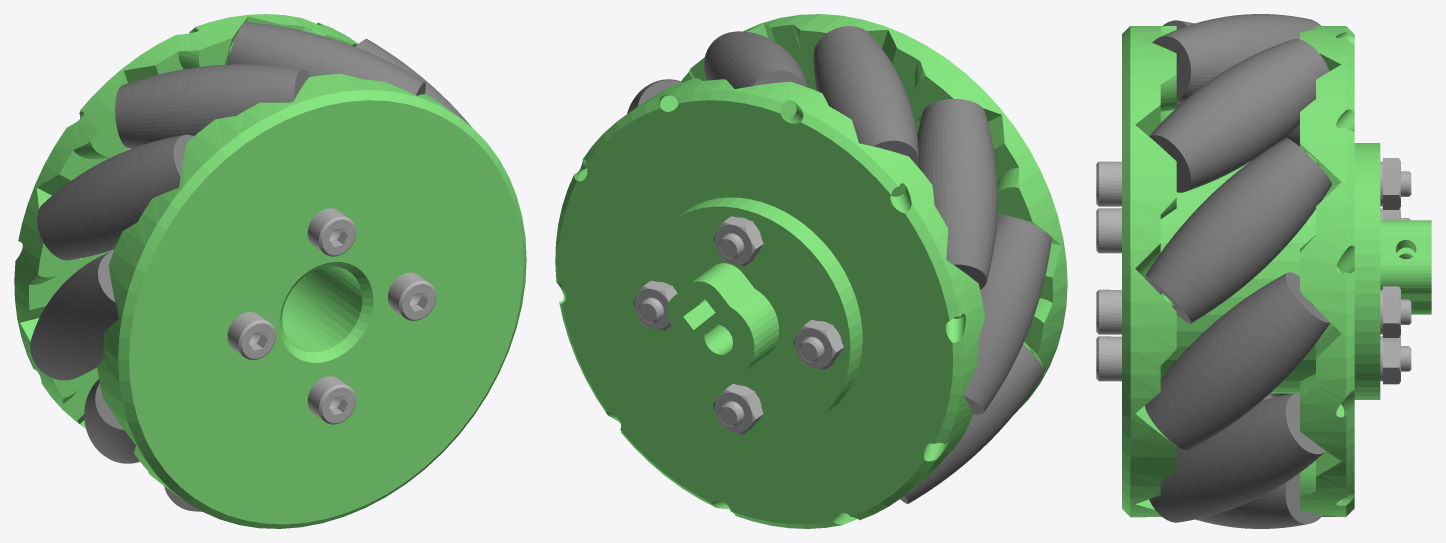
Rendered from wheels_right_link.dae.
3 renders of one model, left to right at view 1: azimuth 30°, elevation 25°; view 2: azimuth 150°, elevation 25°; view 3: azimuth 270°, elevation 25°, orthographic. The views are drawn at different scales.
Visible parts, largest first — view 1: Mecanum_Wheel_Left.015; view 2: Mecanum_Wheel_Left.015; view 3: Mecanum_Wheel_Left.015.
Boxes of the visible parts, left/top/right/bottom form: Mecanum_Wheel_Left.015: left=14, top=14, right=526, bottom=528; Mecanum_Wheel_Left.015: left=555, top=14, right=1067, bottom=528; Mecanum_Wheel_Left.015: left=1096, top=14, right=1431, bottom=528.
Bounding box in the file's own units: 8.01 × 5.22 × 7.97.
